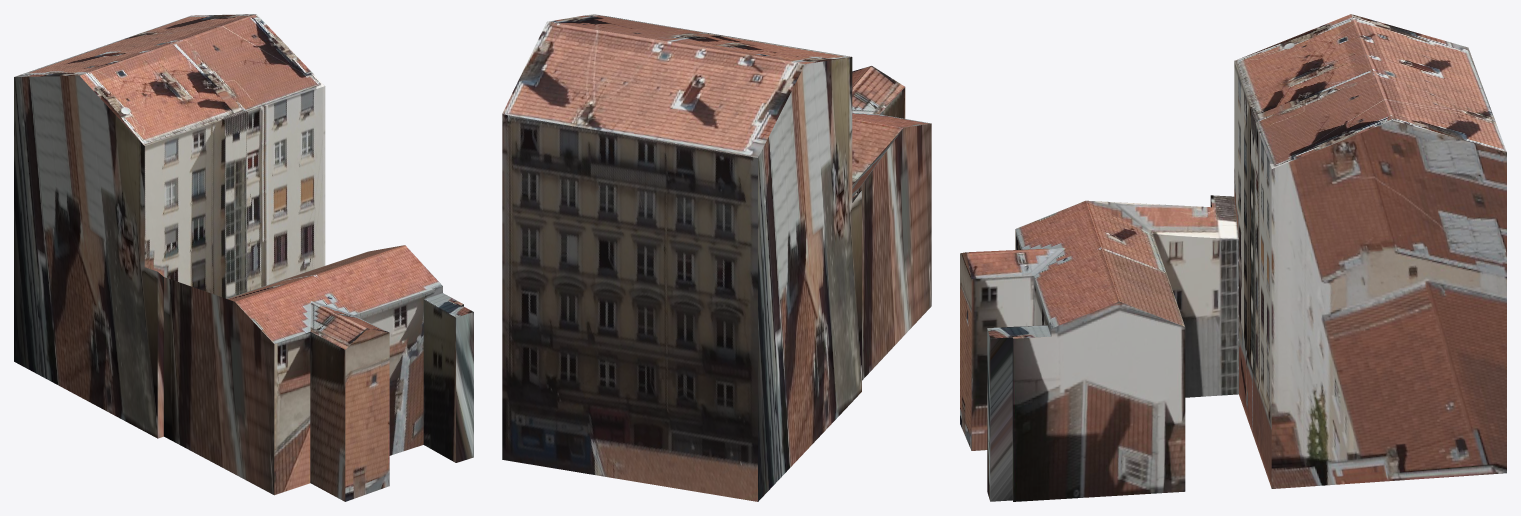
3 views of the same model, side by side, from view 1: azimuth 30°, elevation 25°; view 2: azimuth 150°, elevation 25°; view 3: azimuth 270°, elevation 25° (orthographic). The views are drawn at different scales.
Visible parts, largest first — view 1: Z_UP; view 2: Z_UP; view 3: Z_UP.
Boxes of the visible parts, x1,y1,x2,y2 form: Z_UP: (14, 14, 473, 501); Z_UP: (502, 14, 931, 501); Z_UP: (960, 14, 1506, 501).
Bounding box in the file's own units: 21.75 × 27.05 × 37.16.
2 materials, 1 textured.
